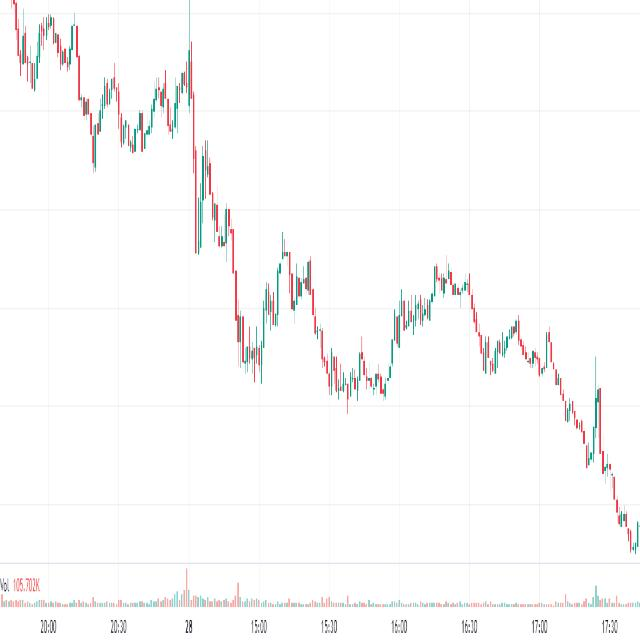Cup-and-handle: (224, 196, 282, 391), (109, 43, 183, 178)
